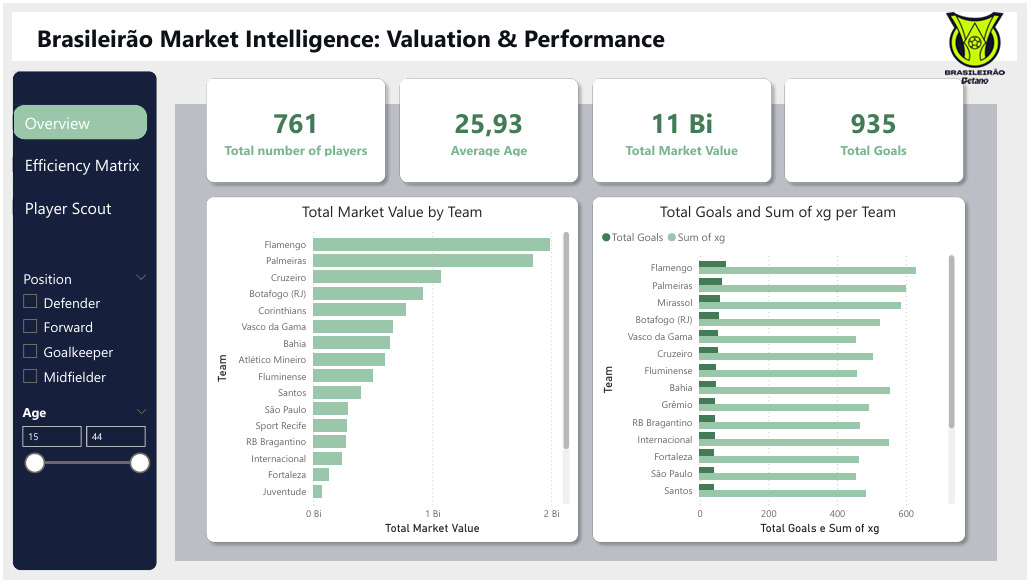

What the dashboard file says about the page in this screenshot:
{"tool":"powerbi","page":{"name":"Overview","canvas":[1280,720],"ordinal":0},"visuals":[{"type":"shape","box":[11.7,11.7,1256.7,61.7],"z":0},{"type":"shape","box":[11.7,85,180,623.3],"z":1000},{"type":"shape","box":[215,126.7,1026.7,570],"z":2000},{"type":"shape","box":[245,85,241.7,148.3],"z":3000},{"type":"shape","box":[486.7,85,241.7,148.3],"z":4000},{"type":"shape","box":[728.3,85,241.7,148.3],"z":5000},{"type":"shape","box":[968.3,85,241.7,148.3],"z":6000},{"type":"cardVisual","fields":{"Data":["_medidas.Total Jogadores"]},"box":[238.3,110,256.7,98.3],"z":7000},{"type":"cardVisual","fields":{"Data":["_medidas.Média Idade"]},"box":[501.7,110,211.7,98.3],"z":8000},{"type":"cardVisual","fields":{"Data":["_medidas.Valor Total Mercado"]},"box":[743.3,110,211.7,98.3],"z":9000},{"type":"cardVisual","fields":{"Data":["_medidas.Total Gols"]},"box":[983.3,110,211.7,98.3],"z":10000},{"type":"shape","box":[245,233.3,483.3,448.3],"z":11000},{"type":"shape","box":[728.3,233.3,483.3,448.3],"z":12000},{"type":"barChart","title":"Total Market Value by Team","fields":{"Category":["dataset_bi.team"],"Y":["_medidas.Valor Total Mercado"]},"box":[260,246.7,453.3,421.7],"z":13000},{"type":"clusteredBarChart","title":"Total Goals and Sum of xg per Team","fields":{"Category":["dataset_bi.team"],"Y":["_medidas.Total Goals","Sum(dataset_bi.xg)"]},"box":[743.3,246.7,451.7,421.7],"z":14000},{"type":"pageNavigator","box":[11.7,126.7,168.3,150],"z":15000},{"type":"slicer","fields":{"Values":["dataset_bi.position"]},"box":[11.7,326.7,180,168.3],"z":16000},{"type":"image","box":[1162,11.1,105.6,89],"z":17000},{"type":"slicer","fields":{"Values":["dataset_bi.age"]},"box":[11.1,494.8,180.7,187.6],"z":18000}]}

Visuals, with their boxes on the page's 1280x720 design canvas (x1, y1, x2, y2). These are canvas units, not pixel positions in the 1031x584 screenshot, which may show the page scaled, cropped or inside an application window:
shape: bbox(12, 12, 1268, 73)
shape: bbox(12, 85, 192, 708)
shape: bbox(215, 127, 1242, 697)
shape: bbox(245, 85, 487, 233)
shape: bbox(487, 85, 728, 233)
shape: bbox(728, 85, 970, 233)
shape: bbox(968, 85, 1210, 233)
cardVisual - _medidas.Total Jogadores: bbox(238, 110, 495, 208)
cardVisual - _medidas.Média Idade: bbox(502, 110, 713, 208)
cardVisual - _medidas.Valor Total Mercado: bbox(743, 110, 955, 208)
cardVisual - _medidas.Total Gols: bbox(983, 110, 1195, 208)
shape: bbox(245, 233, 728, 682)
shape: bbox(728, 233, 1212, 682)
"Total Market Value by Team" barChart: bbox(260, 247, 713, 668)
"Total Goals and Sum of xg per Team" clusteredBarChart: bbox(743, 247, 1195, 668)
pageNavigator: bbox(12, 127, 180, 277)
slicer - dataset_bi.position: bbox(12, 327, 192, 495)
image: bbox(1162, 11, 1268, 100)
slicer - dataset_bi.age: bbox(11, 495, 192, 682)
